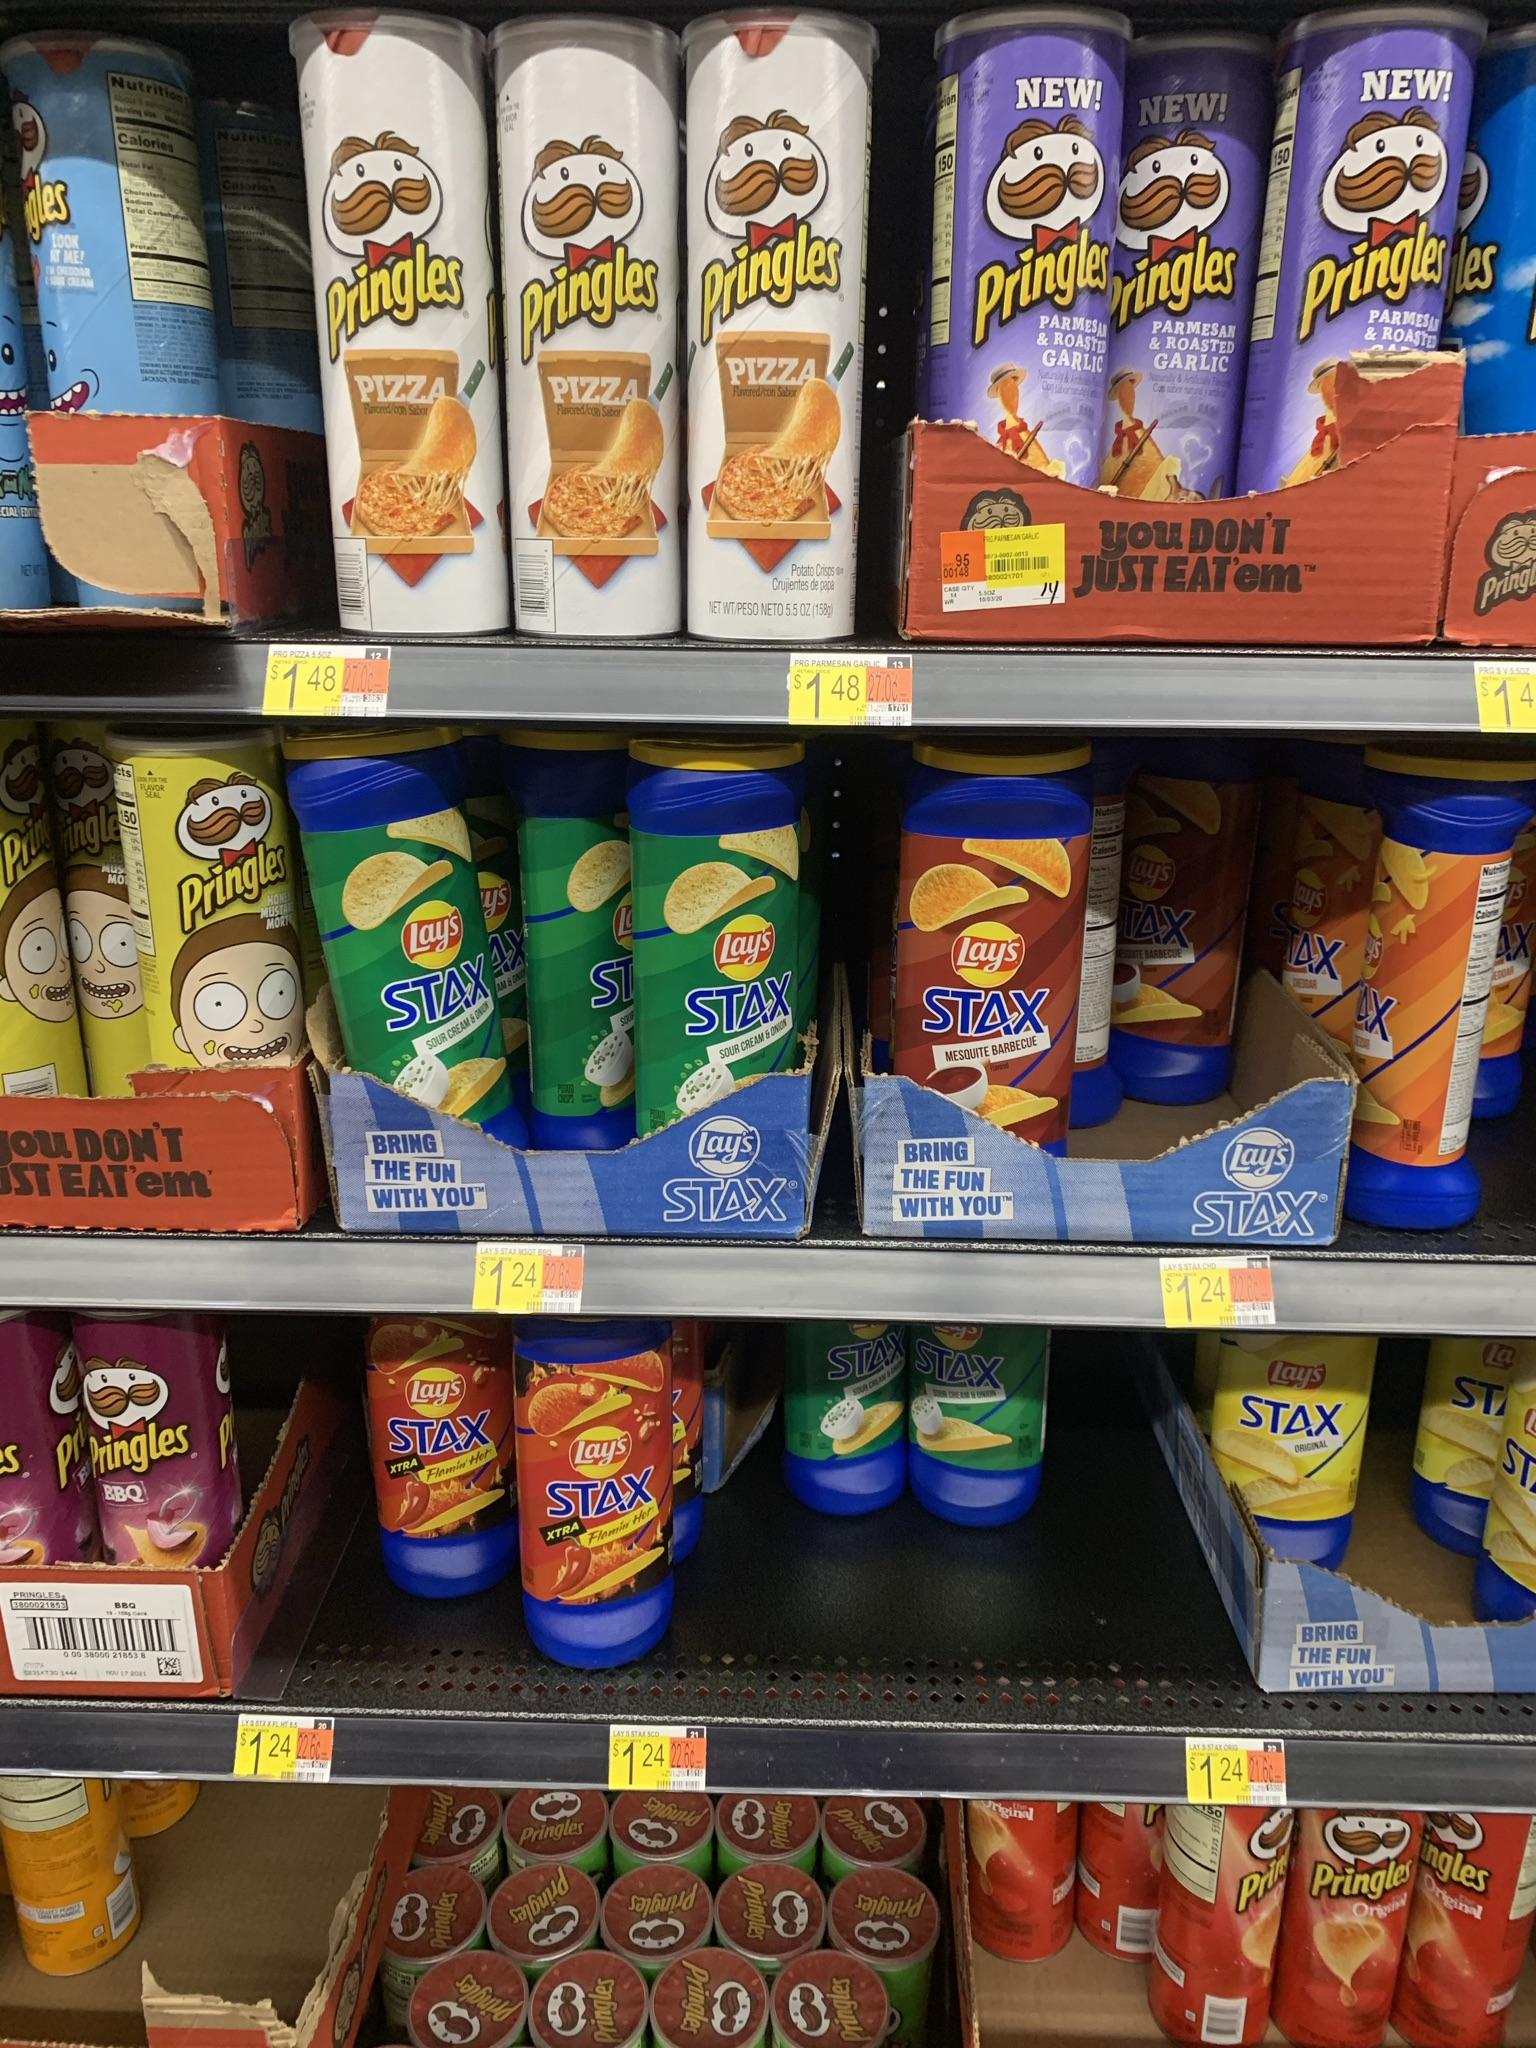Chips: (287, 2, 511, 632), (679, 2, 873, 632), (499, 5, 678, 640), (936, 11, 1125, 472), (1289, 11, 1465, 463), (904, 727, 1081, 1159), (623, 726, 800, 1135), (111, 719, 303, 1077), (499, 1322, 682, 1663), (1125, 44, 1249, 502), (74, 1313, 244, 1563)
